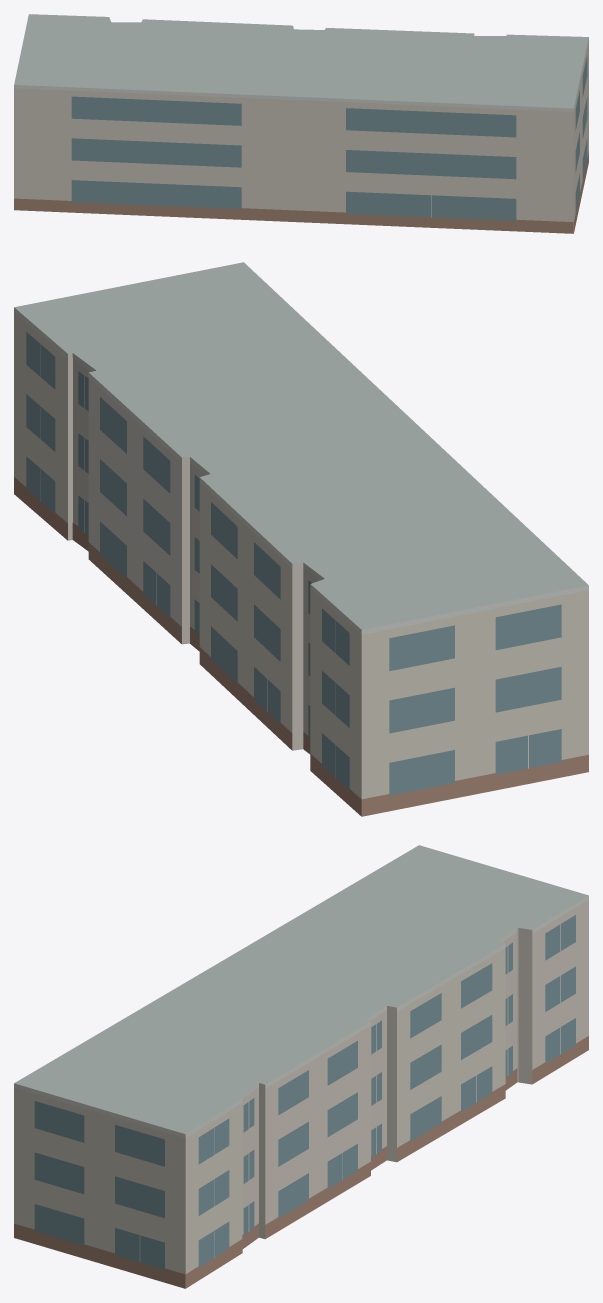
The model's file is survey-upis-32627501.glb.
The picture shows the model from 3 angles, top to bottom: view 1: azimuth 30°, elevation 25°; view 2: azimuth 150°, elevation 25°; view 3: azimuth 270°, elevation 25°; orthographic projection. The views are drawn at different scales.
Visible parts, largest first — view 1: survey-upis-32627501.tmp; view 2: survey-upis-32627501.tmp; view 3: survey-upis-32627501.tmp.
Part boxes in pixels (left/top/right/bottom): survey-upis-32627501.tmp: left=14, top=14, right=588, bottom=233; survey-upis-32627501.tmp: left=14, top=262, right=588, bottom=816; survey-upis-32627501.tmp: left=14, top=845, right=588, bottom=1288.
Bounding box in the file's own units: 36.7 × 9.15 × 30.84.
